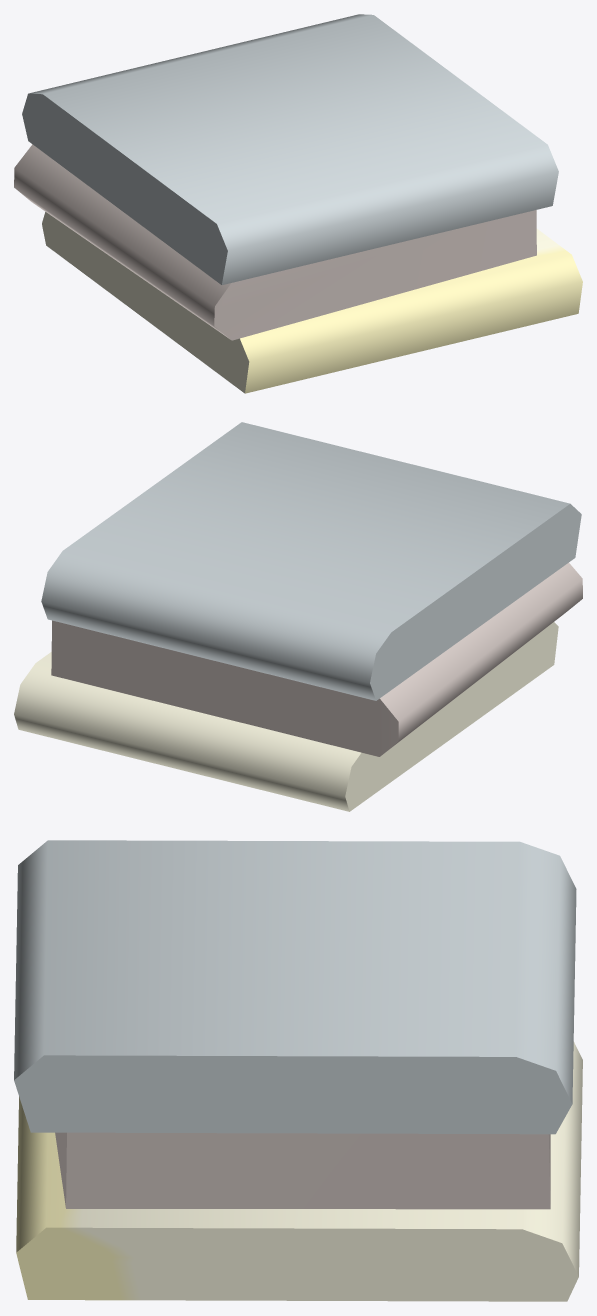
File: shop_029.fbx
3 views of the same model, one above another, from view 1: azimuth 30°, elevation 25°; view 2: azimuth 150°, elevation 25°; view 3: azimuth 270°, elevation 25° (orthographic). The views are drawn at different scales.
Parts seen in each view (by area): view 1: shop_029; view 2: shop_029; view 3: shop_029.
Boxes of the visible parts, bbox=[...] form: shop_029: bbox=[14, 14, 582, 393]; shop_029: bbox=[14, 422, 582, 811]; shop_029: bbox=[14, 840, 582, 1301].
Bounding box in the file's own units: 41.03 × 40.55 × 17.96.
